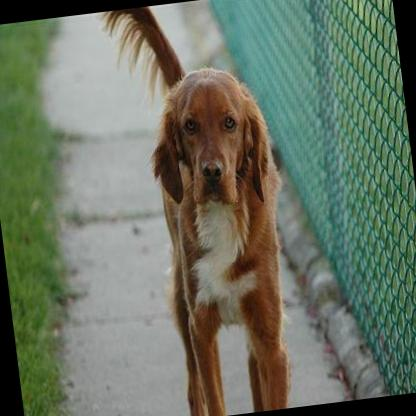Irish_setter: (98, 0, 309, 416)
